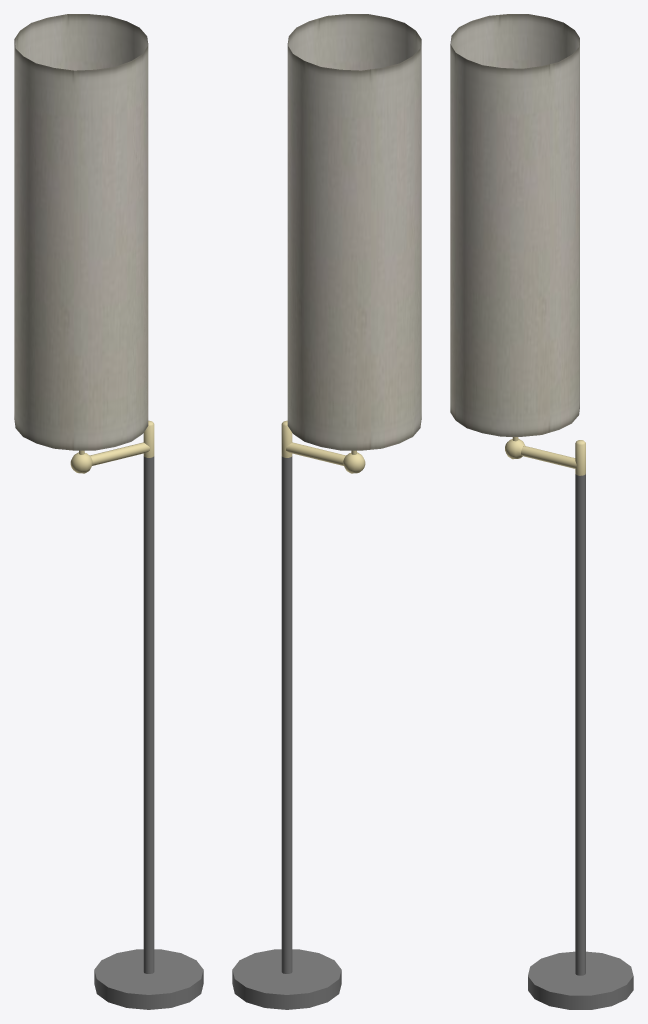
File: FloorLamp02.fbx
3 renders of one model, left to right at view 1: azimuth 30°, elevation 25°; view 2: azimuth 150°, elevation 25°; view 3: azimuth 330°, elevation 25°, orthographic. The views are drawn at different scales.
Visible parts, largest first — view 1: Tulipa, Tulipa5, Metal01, Metal02; view 2: Tulipa, Tulipa5, Metal01, Metal02; view 3: Tulipa, Tulipa5, Metal01, Metal02.
Part boxes in pixels (x1,y1,x2,y2): Tulipa: (14, 14, 148, 450); Tulipa5: (14, 14, 148, 450); Metal01: (94, 456, 203, 1009); Metal02: (70, 420, 154, 473); Tulipa: (287, 14, 421, 450); Tulipa5: (287, 14, 421, 450); Metal01: (232, 456, 341, 1009); Metal02: (281, 420, 365, 473); Tulipa: (450, 14, 579, 436); Tulipa5: (450, 14, 579, 436); Metal01: (528, 474, 633, 1009); Metal02: (505, 437, 585, 475).
Size of the model in its own units: 0.3649 by 1.93 by 0.2455.
